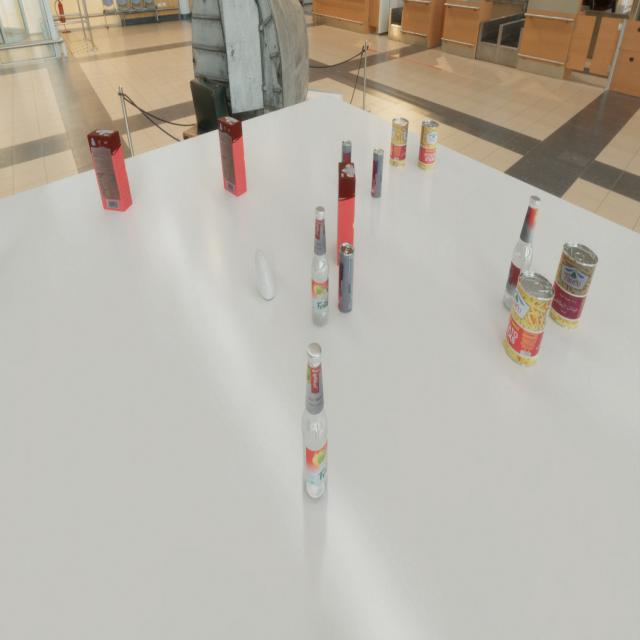Bottle: (301, 343, 329, 502), (502, 195, 540, 312), (310, 206, 330, 327)
HelloPanda: (87, 129, 133, 212), (217, 115, 247, 197), (337, 162, 356, 266)
Potato_sticks: (503, 271, 555, 367), (547, 242, 598, 329), (418, 120, 439, 171), (389, 118, 409, 167)
Rita_zero_sugar: (338, 243, 355, 314), (371, 148, 384, 198), (341, 140, 352, 188)
Salt: (254, 248, 275, 300)
